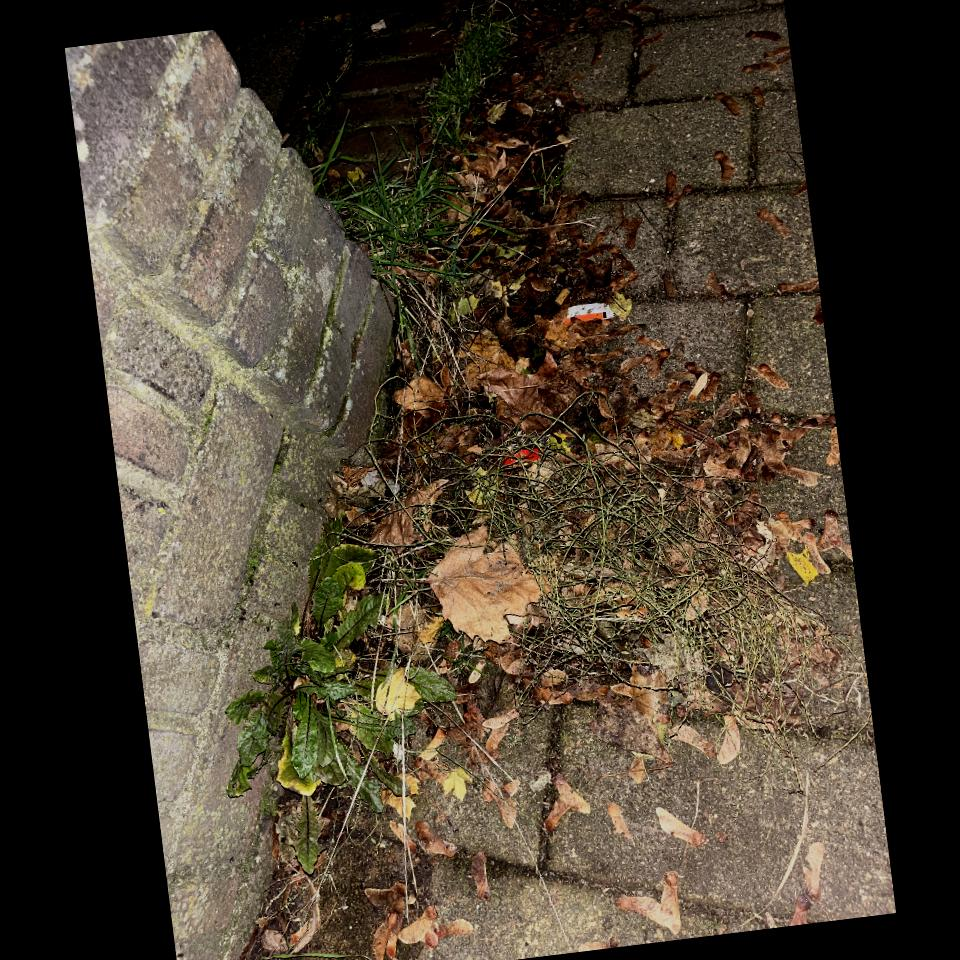weed: (198, 548, 433, 815), (329, 156, 478, 313), (410, 4, 526, 144)
